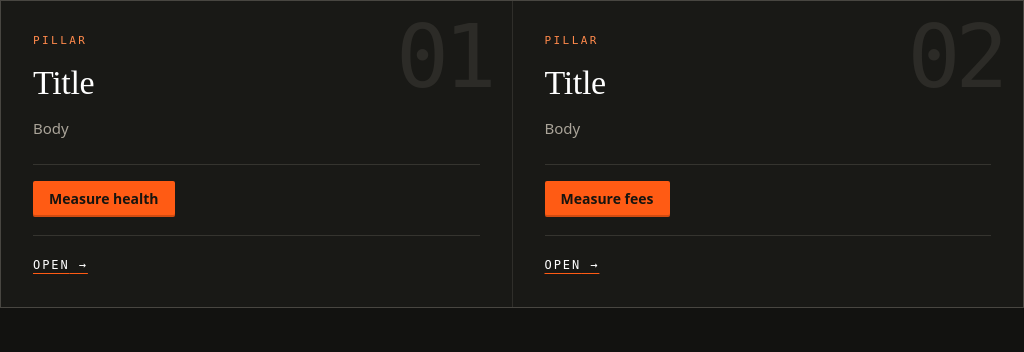
Test: PillarCards › measures once on click and shows the value
Click the button "Measure health": x=104, y=199 top-left (33, 181), bottom-right (175, 217)
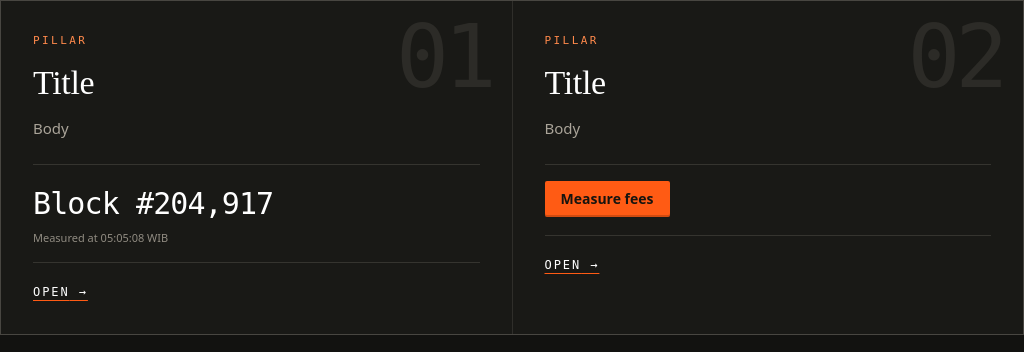
Expected: the text with test id "health-proof-value" reads "Block #204,917", top-left (33, 186), bottom-right (273, 221)
